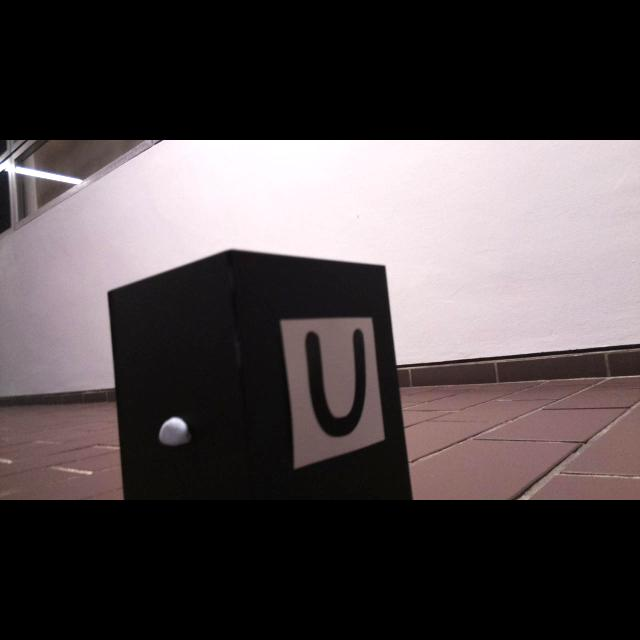U: (305, 328, 368, 437)
